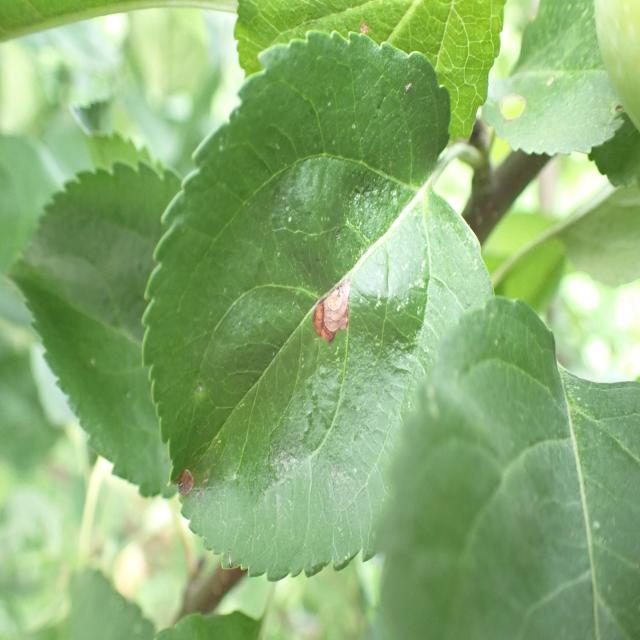Black Rot: (308, 250, 362, 346), (486, 76, 547, 139), (168, 448, 198, 525)
